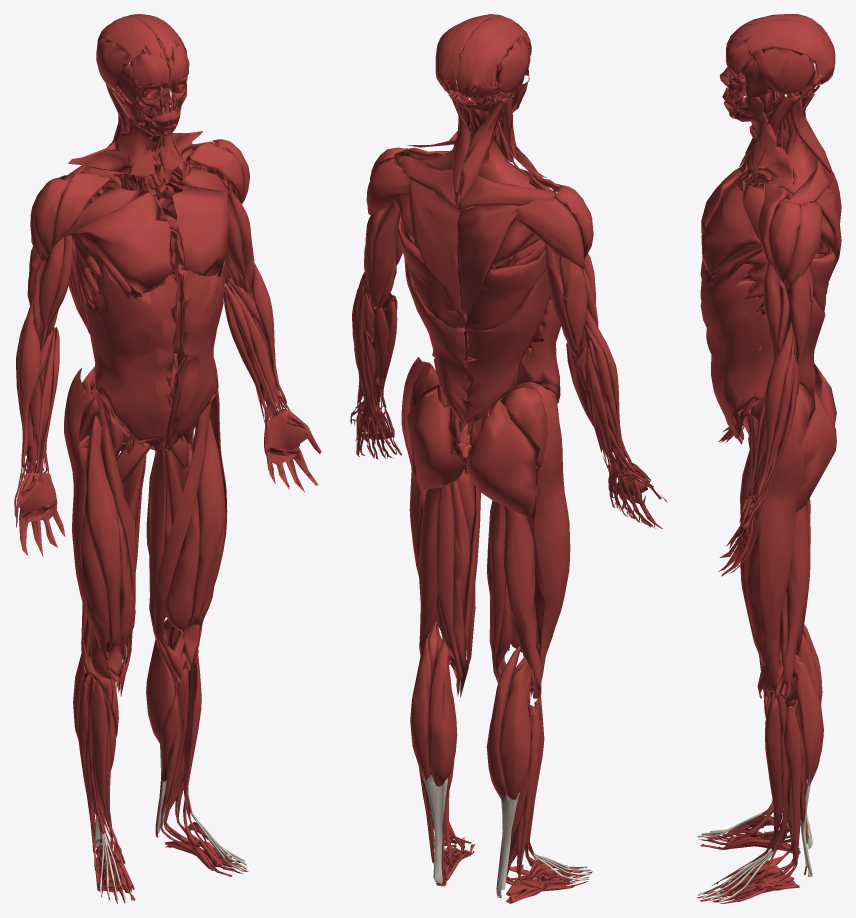
Rendered from muscles.glb.
3 views of the same model, side by side, from view 1: azimuth 30°, elevation 25°; view 2: azimuth 150°, elevation 25°; view 3: azimuth 270°, elevation 25° (orthographic). The views are drawn at different scales.
Visible parts, largest first — view 1: mus-hip-thigh, mus-abdomen, mus-leg-foot, mus-chest, mus-forearm-hand, mus-head-neck, mus-shoulder-arm, mus-back; view 2: mus-hip-thigh, mus-back, mus-leg-foot, mus-shoulder-arm, mus-forearm-hand, mus-head-neck, mus-abdomen, mus-chest; view 3: mus-hip-thigh, mus-leg-foot, mus-head-neck, mus-abdomen, mus-shoulder-arm, mus-chest, mus-forearm-hand, mus-back.
Boxes of the visible parts, left/top/right/bottom form: mus-hip-thigh: left=64, top=353, right=227, bottom=696; mus-abdomen: left=86, top=241, right=225, bottom=453; mus-leg-foot: left=73, top=619, right=248, bottom=903; mus-chest: left=63, top=161, right=230, bottom=333; mus-forearm-hand: left=14, top=263, right=321, bottom=890; mus-head-neck: left=68, top=14, right=202, bottom=195; mus-shoulder-arm: left=27, top=139, right=266, bottom=380; mus-back: left=62, top=91, right=198, bottom=329; mus-hip-thigh: left=401, top=357, right=570, bottom=698; mus-back: left=398, top=104, right=555, bottom=446; mus-leg-foot: left=410, top=621, right=592, bottom=903; mus-shoulder-arm: left=364, top=147, right=598, bottom=390; mus-forearm-hand: left=350, top=272, right=667, bottom=883; mus-head-neck: left=406, top=14, right=546, bottom=248; mus-abdomen: left=432, top=297, right=560, bottom=415; mus-chest: left=413, top=168, right=552, bottom=342; mus-hip-thigh: left=740, top=363, right=836, bottom=706; mus-leg-foot: left=696, top=624, right=823, bottom=903; mus-head-neck: left=719, top=14, right=835, bottom=195; mus-abdomen: left=700, top=260, right=774, bottom=444; mus-shoulder-arm: left=757, top=182, right=833, bottom=395; mus-chest: left=701, top=162, right=829, bottom=352; mus-forearm-hand: left=718, top=320, right=798, bottom=897; mus-back: left=771, top=88, right=841, bottom=394.
Size of the model in its own units: 0.65 by 1.71 by 0.2637.
